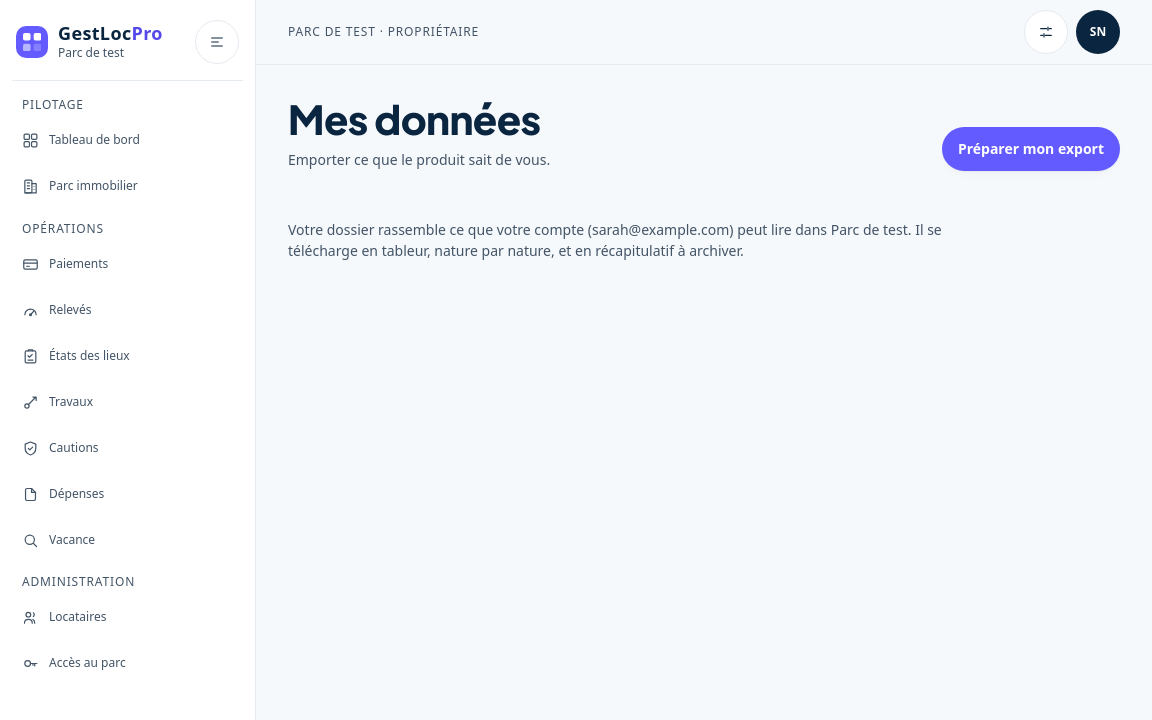
Test: les lignes de « Mes données » › annonce l’échec de la préparation, et l’interrompt
The width and height of the screenshot is (1152, 720).
Click the button "Préparer mon export" at (1031, 149), box x1=942 y1=127 x2=1120 y2=171
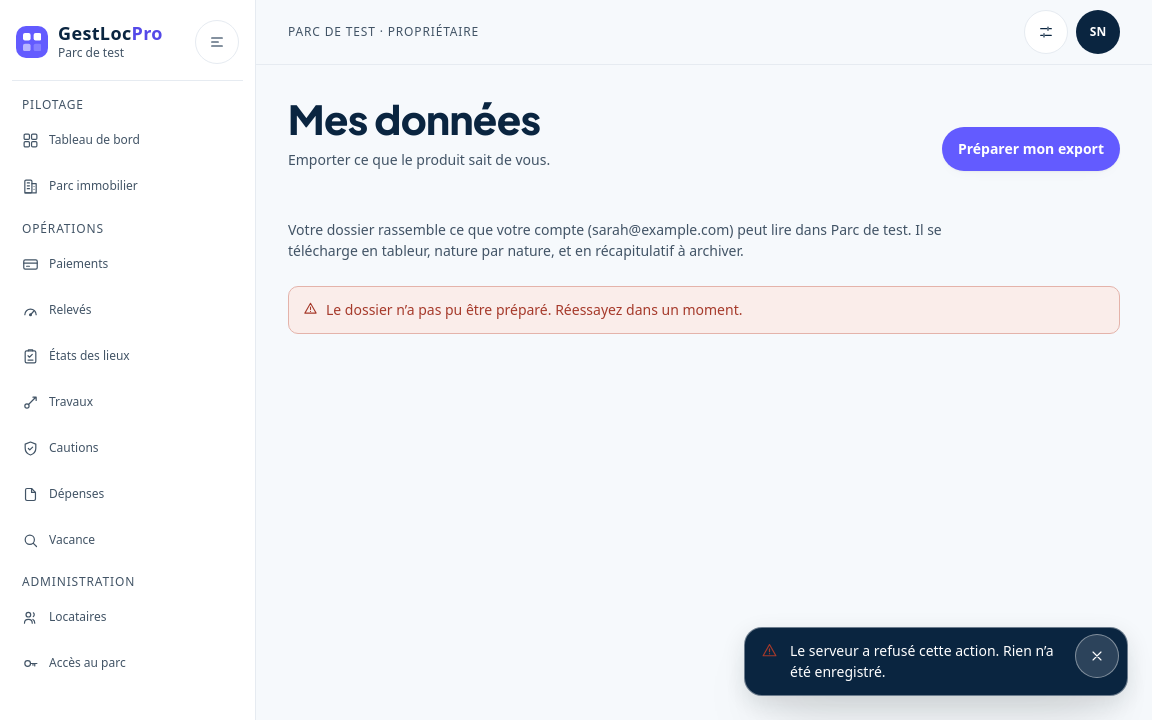
Result: the message "Le dossier n’a pas pu être préparé. Réessayez dans un moment." is shown at x1=288 y1=286 x2=1120 y2=334
